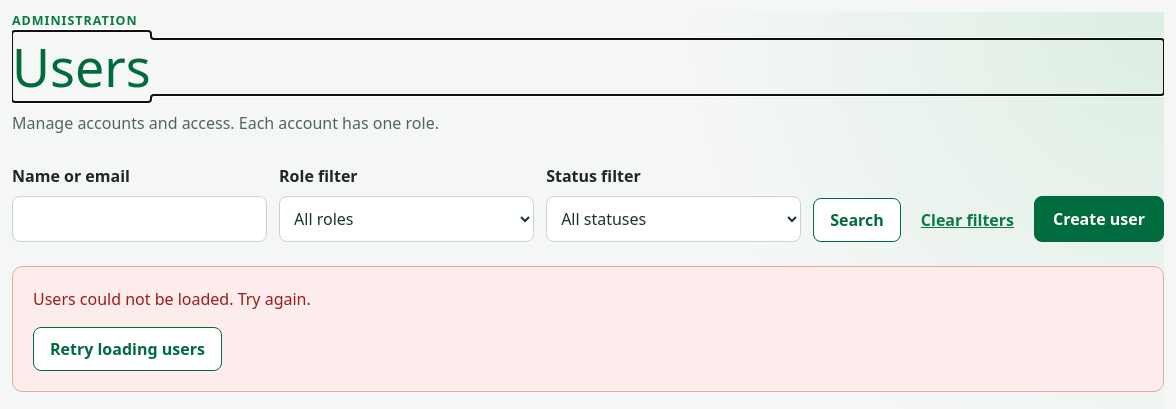
Administrator user management › retries a safe load failure and distinguishes no results
Expected: the message does not show "private", [12,266,1164,392]
Click the button "Retry loading users" at (127, 350), box [33,328,222,372]
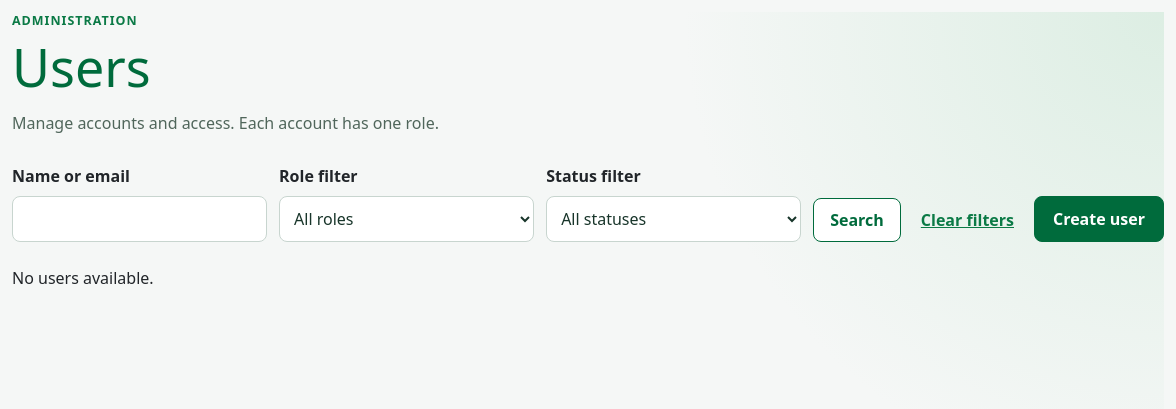
Now the text "No users available." is shown, box [12,268,154,290]
Select "Inactive" in the dropdown labelled "Status filter" at (674, 220), box [546,196,801,242]
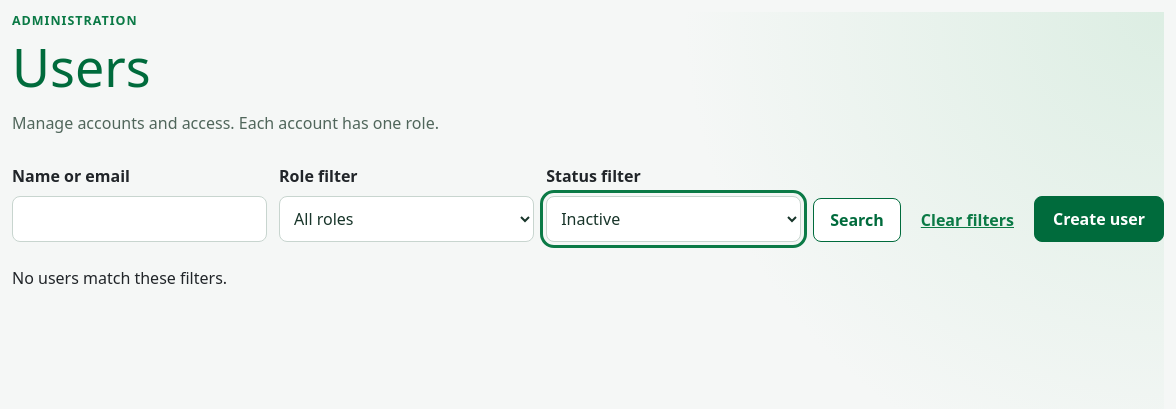
Now the text "No users match these filters." is shown, box [12,268,227,290]
Click the button "Clear filters" at (967, 220), box [913,198,1022,242]
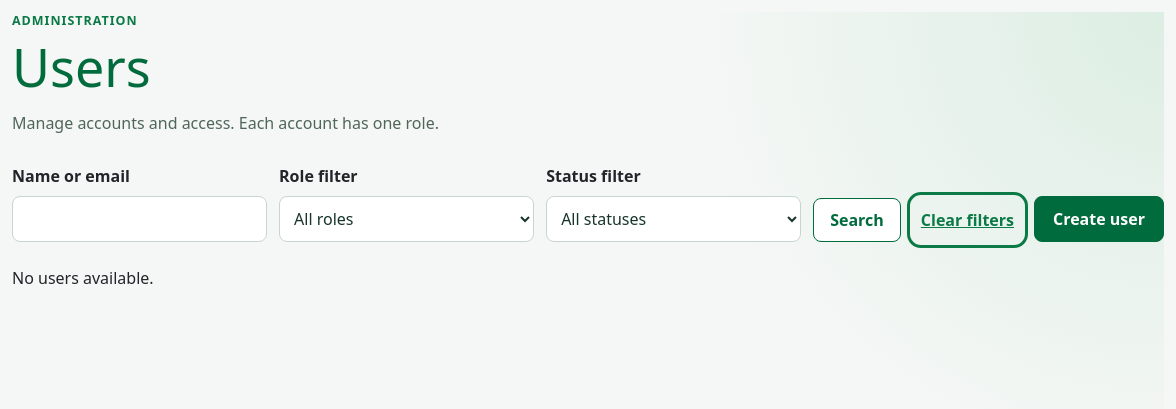
Type "missing" into the field labelled "Name or email" at (140, 220), box [12,196,267,242]
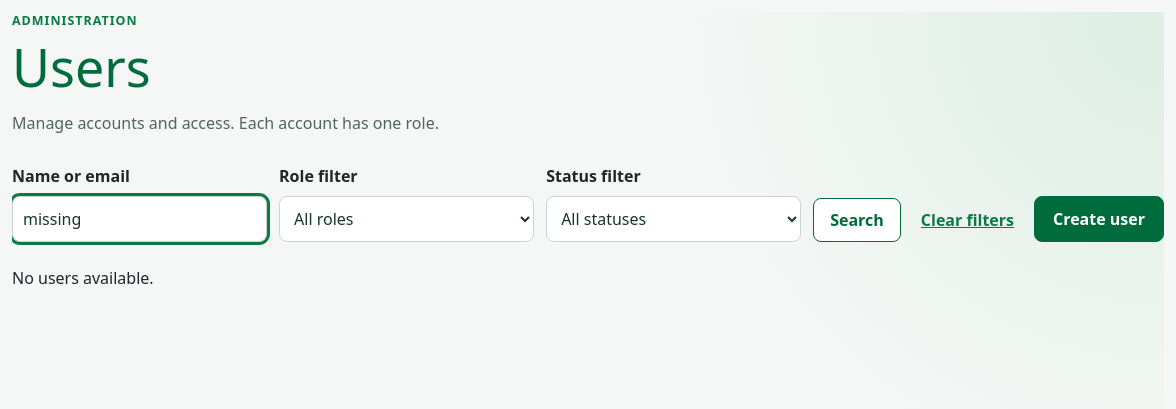
Click the button "Search" at (857, 220), box [813,198,901,242]
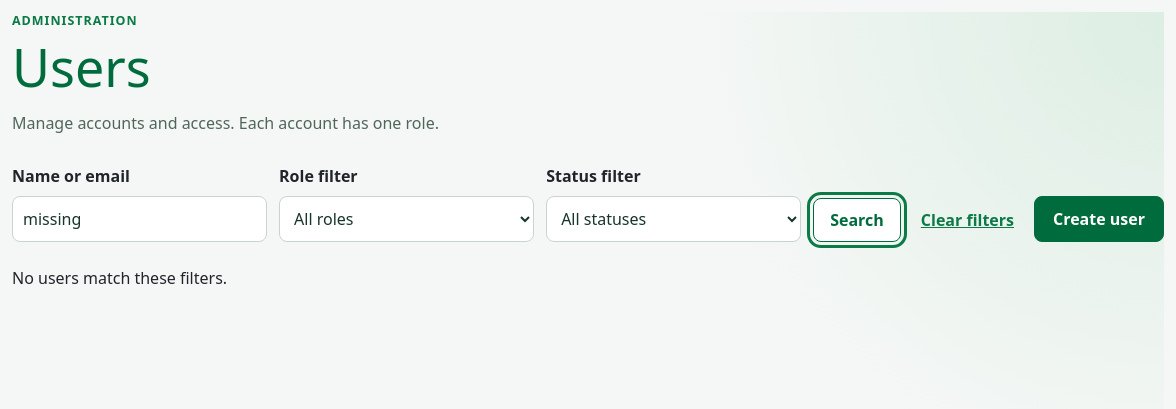
Now the text "No users match these filters." is shown, box [12,268,227,290]
